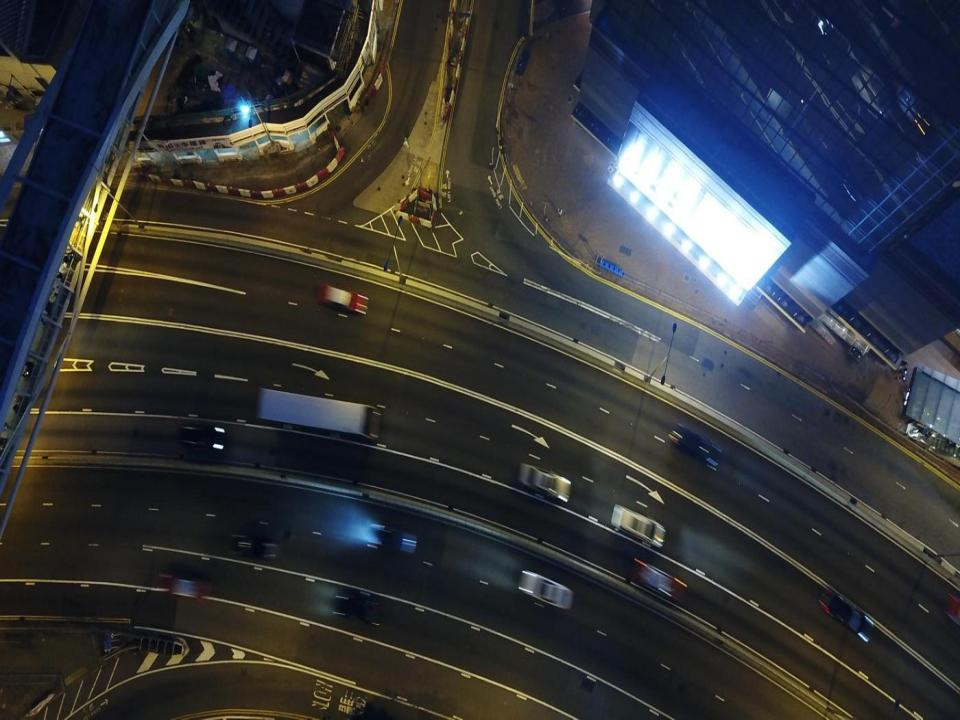bus: (255, 388, 381, 441)
car: (366, 524, 439, 568), (820, 586, 875, 644), (632, 558, 687, 606), (611, 504, 666, 550), (670, 423, 721, 471), (518, 461, 570, 502), (154, 571, 210, 601), (332, 593, 383, 625), (228, 527, 278, 559), (320, 284, 368, 317), (178, 421, 224, 452)
van: (518, 568, 573, 612)
